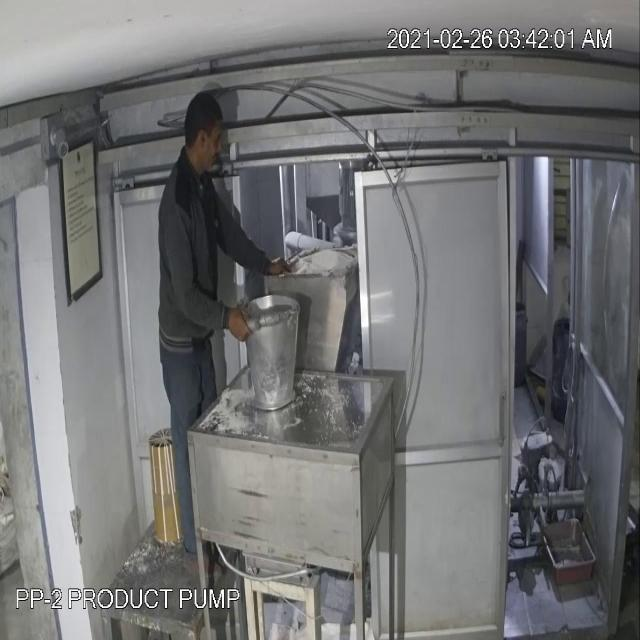no-helmet: (181, 87, 227, 182)
